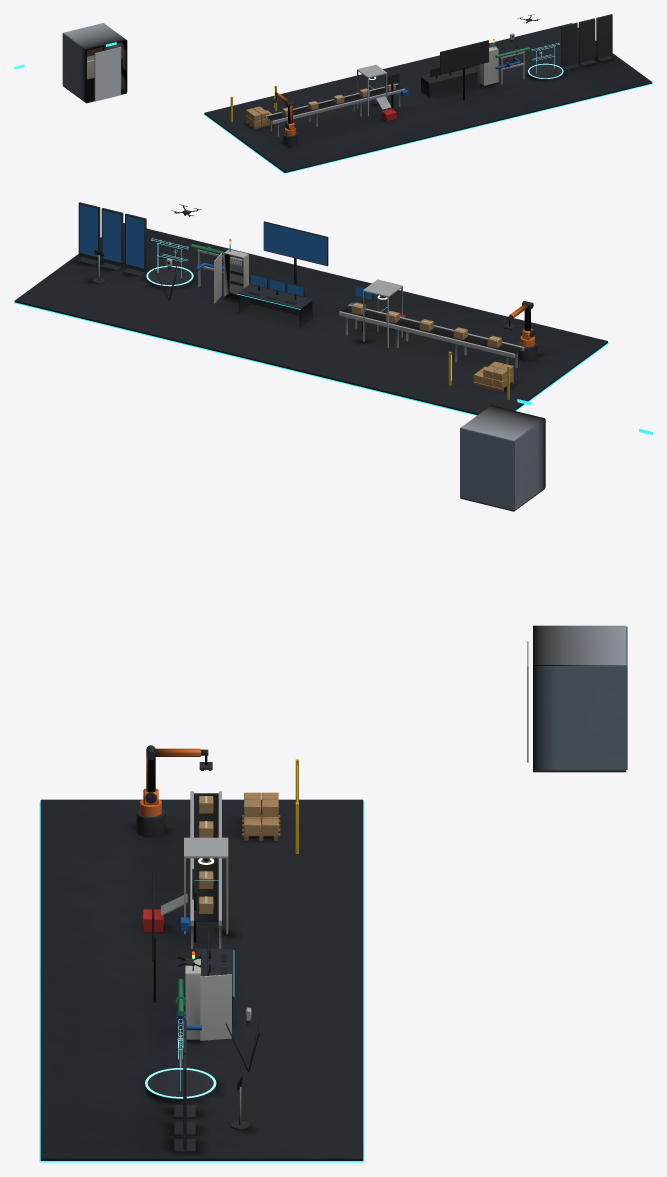
Rendered from ex_digital.glb.
The picture shows the model from 3 angles, top to bottom: view 1: azimuth 30°, elevation 25°; view 2: azimuth 150°, elevation 25°; view 3: azimuth 270°, elevation 25°; orthographic projection. The views are drawn at different scales.
Parts seen in each view (by area): view 1: static.plinth, static.paint_dark, lift_cabin.steel, static.paint_grey, static.plastic_dark, lift_cabin.white, liftDoorL.steel, accent_strip.accent, liftDoorR.steel, static.paint_ral, static.belt, static.carton (+1 smaller); view 2: static.plinth, lift_cabin.steel, static.paint_dark, static.paint_grey, scr_oee.screen, lift_cabin.white, static.belt, scr_erp2.screen, static.paint_ral, accent_strip.accent, static.plastic_dark, scr_erp1.screen (+2 smaller); view 3: static.plinth, lift_cabin.steel, static.paint_dark, lift_cabin.white, static.paint_ral, static.paint_grey, accent_strip.accent, static.belt, static.carton, static.plastic_dark.
Part boxes in pixels (<box>): static.plinth: <box>204,23,652,172</box>; static.paint_dark: <box>283,14,613,146</box>; lift_cabin.steel: <box>62,33,127,102</box>; static.paint_grey: <box>265,51,524,136</box>; static.plastic_dark: <box>371,40,488,107</box>; lift_cabin.white: <box>63,23,126,50</box>; liftDoorL.steel: <box>94,50,107,101</box>; accent_strip.accent: <box>203,83,652,173</box>; liftDoorR.steel: <box>108,47,120,98</box>; static.paint_ral: <box>479,43,498,85</box>; static.belt: <box>267,85,402,120</box>; static.carton: <box>246,106,272,126</box>; static.plinth: <box>14,223,607,415</box>; lift_cabin.steel: <box>460,419,545,510</box>; static.paint_dark: <box>77,202,537,360</box>; static.paint_grey: <box>197,249,524,367</box>; scr_oee.screen: <box>264,222,326,265</box>; lift_cabin.white: <box>460,405,544,441</box>; static.belt: <box>342,306,521,353</box>; scr_erp2.screen: <box>102,210,121,262</box>; static.paint_ral: <box>214,249,248,303</box>; accent_strip.accent: <box>14,302,608,415</box>; static.plastic_dark: <box>94,221,383,331</box>; scr_erp1.screen: <box>126,216,144,268</box>; static.plinth: <box>40,799,363,1160</box>; lift_cabin.steel: <box>533,626,627,770</box>; static.paint_dark: <box>136,808,260,1152</box>; lift_cabin.white: <box>533,625,626,665</box>; static.paint_ral: <box>185,959,231,1040</box>; static.paint_grey: <box>161,791,228,1067</box>; accent_strip.accent: <box>39,802,364,1162</box>; static.belt: <box>194,793,218,921</box>; static.carton: <box>244,792,278,835</box>; static.plastic_dark: <box>152,858,243,1090</box>.
Size of the model in its own units: 28.32 by 3.16 by 13.85.
